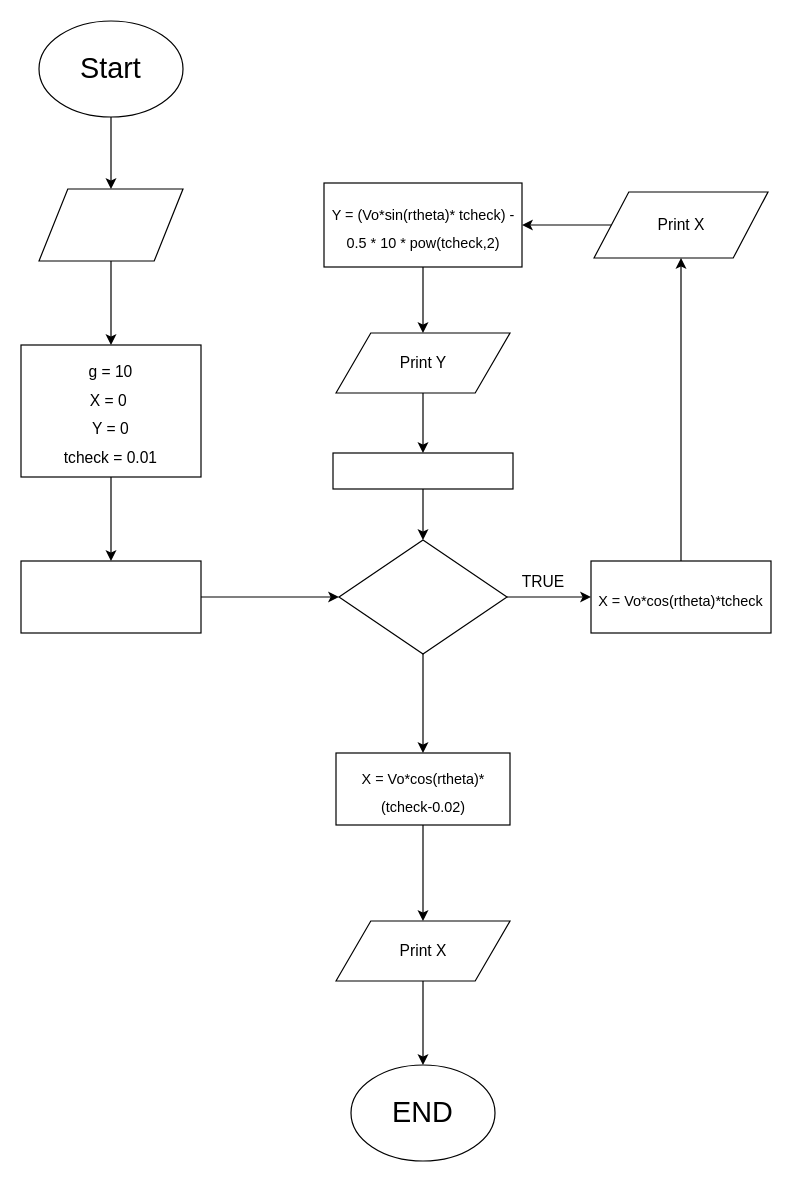
This 792x1182 diagram has some shape labels left out. Each missing label, with the box of its shape:
Input Vo, theta: (38, 188, 183, 261)
Is Y >= 0: (338, 539, 507, 654)
rtheta = 3.1415 * theta / 180: (20, 560, 201, 633)
tcheck = tcheck + 0.01: (332, 452, 513, 489)
